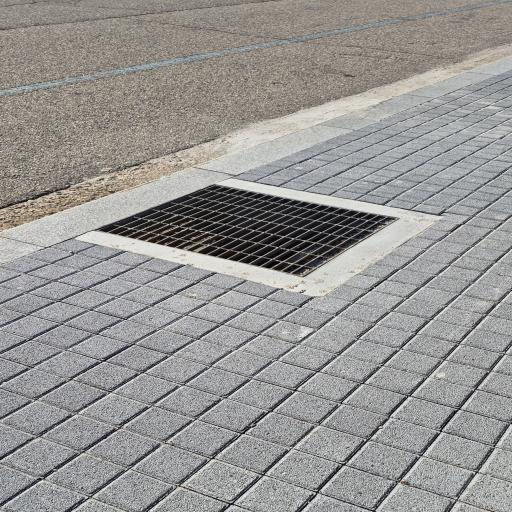drain: (96, 185, 397, 277)
